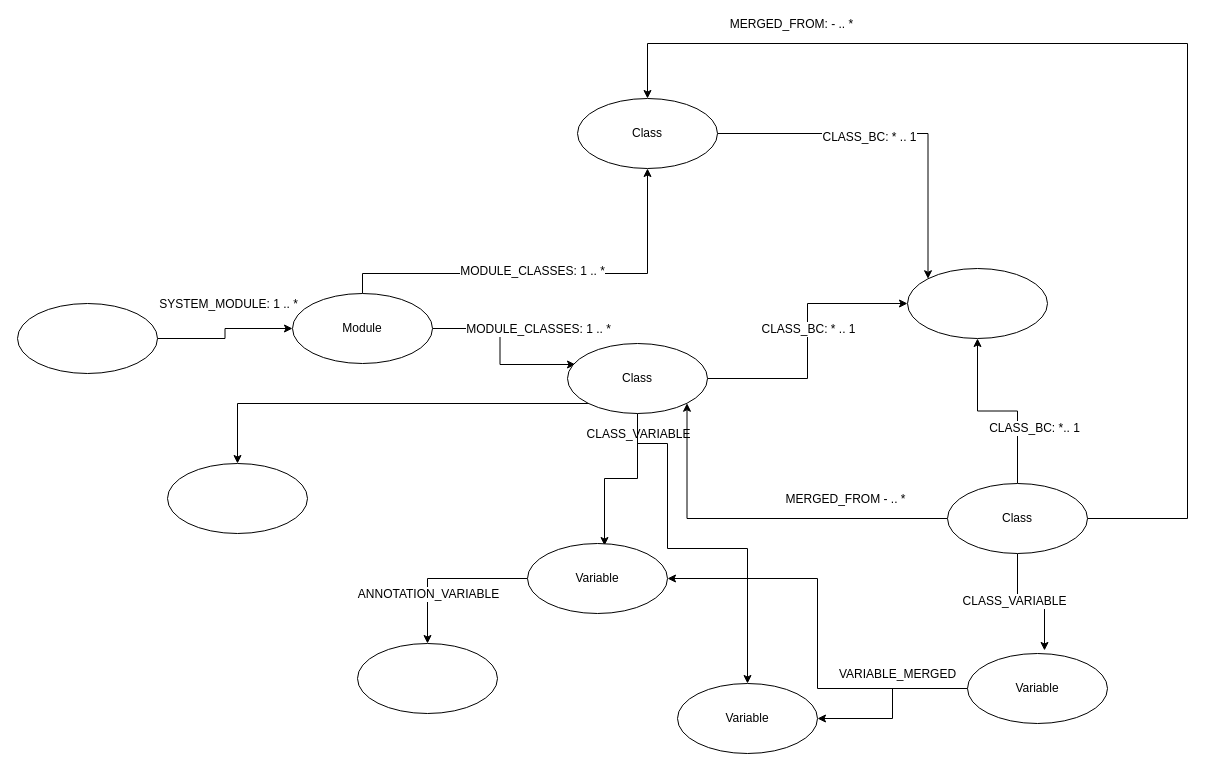
Some shapes in this 1213 by 771 pixel diagram are drawn without their labels. The centre of each missing label's shape, as x and y in pixels:
Annotation: (x=427, y=678)
Bounded context: (x=977, y=303)
Entity -statically: (x=237, y=498)
System: (x=87, y=338)
